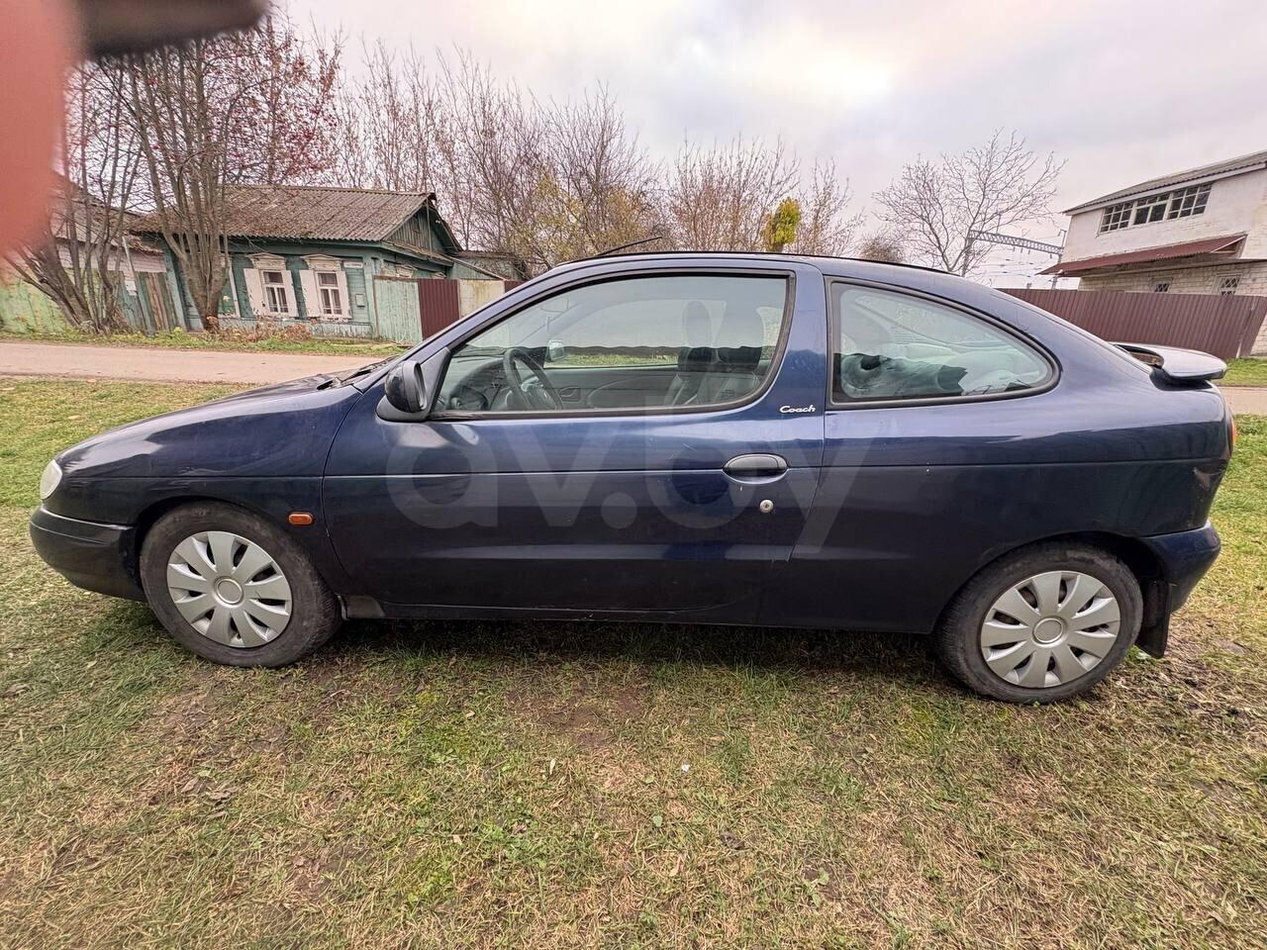Megane_1995-1999: (26, 247, 1237, 719)
